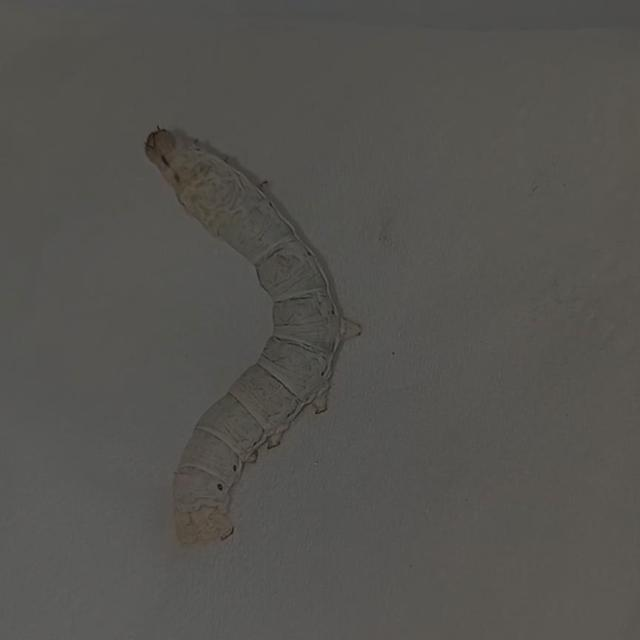Healthy: (131, 95, 380, 566)
